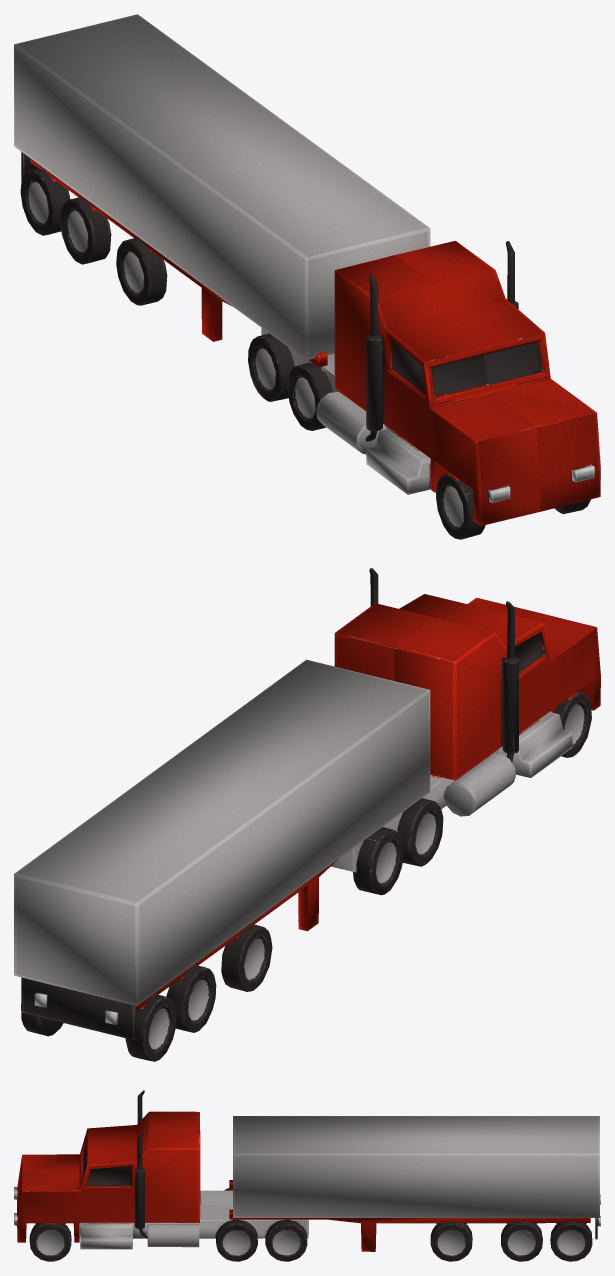
File: truck_LOD0.fbx
3 views of the same model, one above another, from view 1: azimuth 30°, elevation 25°; view 2: azimuth 150°, elevation 25°; view 3: azimuth 270°, elevation 25° (orthographic). The views are drawn at different scales.
Visible parts, largest first — view 1: truck_LOD0; view 2: truck_LOD0; view 3: truck_LOD0.
Part boxes in pixels (<box>): truck_LOD0: <box>14,14,600,539</box>; truck_LOD0: <box>14,568,600,1061</box>; truck_LOD0: <box>14,1090,600,1261</box>.
Size of the model in its own units: 289 by 352 by 1421.
